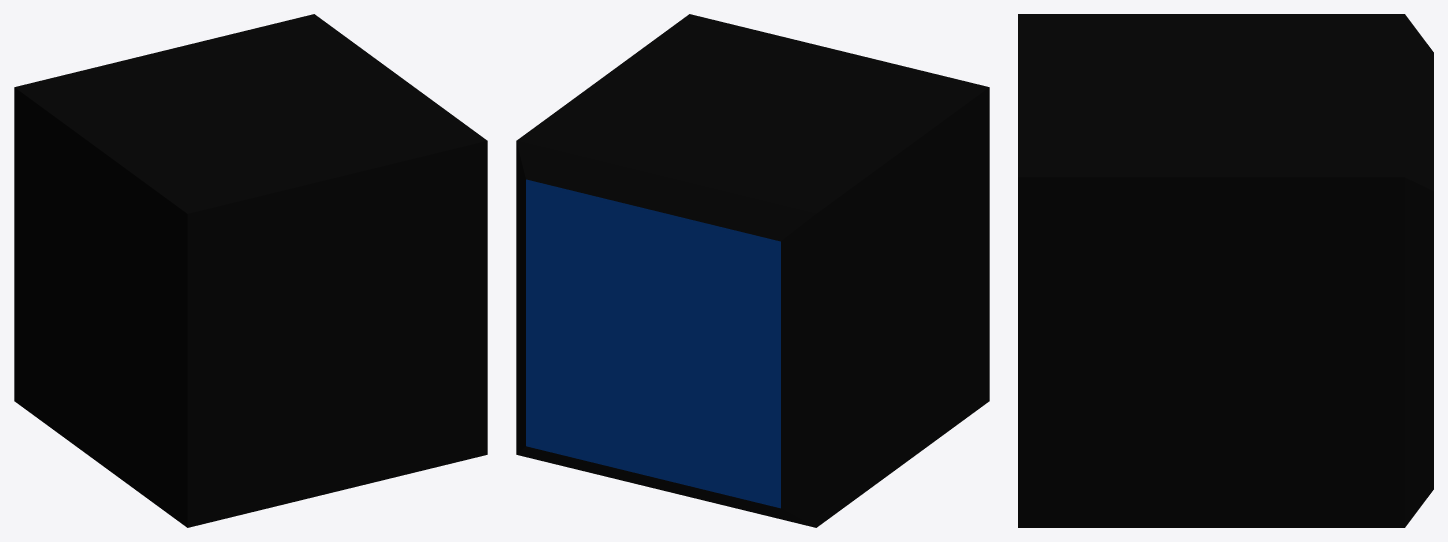
File: rubiks_cube_18.glb
3 renders of one model, left to right at view 1: azimuth 30°, elevation 25°; view 2: azimuth 150°, elevation 25°; view 3: azimuth 270°, elevation 25°, orthographic. The views are drawn at different scales.
Visible parts, largest first — view 1: Cube18.001; view 2: Cube18.001; view 3: Cube18.001.
Part boxes in pixels (<box>): Cube18.001: <box>14,14,487,527</box>; Cube18.001: <box>516,14,989,527</box>; Cube18.001: <box>1018,14,1433,527</box>.
Size of the model in its own units: 2 by 2 by 2.15.
